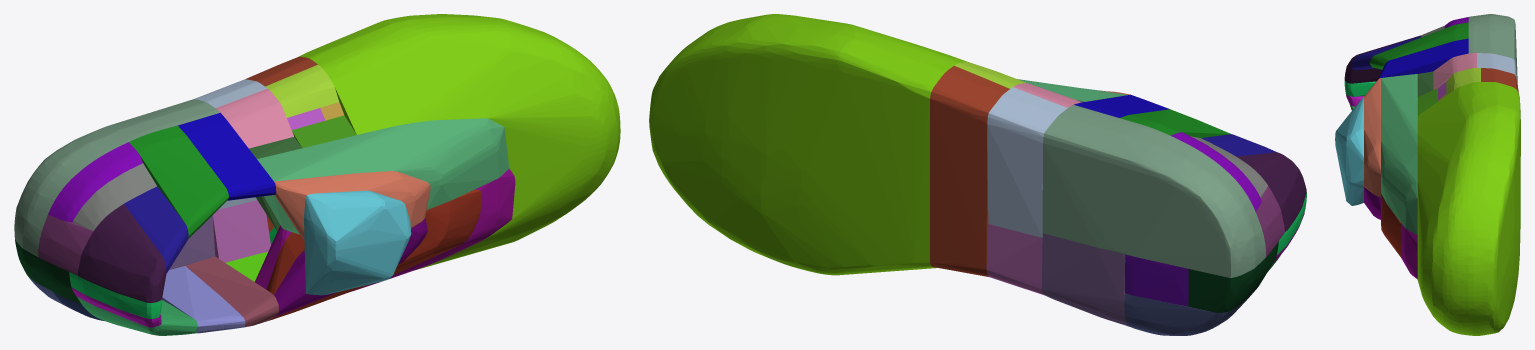
The model's file is coacd_collision.obj.
3 renders of one model, left to right at view 1: azimuth 30°, elevation 25°; view 2: azimuth 150°, elevation 25°; view 3: azimuth 270°, elevation 25°, orthographic. The views are drawn at different scales.
Visible parts, largest first — view 1: geometry_4, geometry_3, geometry_2, geometry_0, geometry_26, geometry_8, geometry_15, geometry_9, geometry_5, geometry_14, geometry_12, geometry_13 (+19 smaller); view 2: geometry_4, geometry_0, geometry_31, geometry_6, geometry_1, geometry_7, geometry_16, geometry_25, geometry_27, geometry_26, geometry_8, geometry_5 (+7 smaller); view 3: geometry_4, geometry_3, geometry_2, geometry_0, geometry_9, geometry_5, geometry_8, geometry_24, geometry_15, geometry_14, geometry_26, geometry_6 (+7 smaller).
Part boxes in pixels (bbox=[...]): geometry_4: bbox=[299, 14, 620, 270]; geometry_3: bbox=[257, 118, 509, 234]; geometry_2: bbox=[304, 190, 411, 295]; geometry_0: bbox=[14, 99, 220, 256]; geometry_26: bbox=[77, 204, 166, 302]; geometry_8: bbox=[129, 125, 228, 238]; geometry_15: bbox=[266, 189, 481, 320]; geometry_9: bbox=[274, 171, 430, 241]; geometry_5: bbox=[178, 113, 276, 200]; geometry_14: bbox=[255, 168, 515, 291]; geometry_12: bbox=[162, 266, 245, 333]; geometry_13: bbox=[185, 256, 278, 327]; geometry_4: bbox=[649, 14, 967, 275]; geometry_0: bbox=[1042, 105, 1265, 277]; geometry_31: bbox=[930, 65, 1009, 276]; geometry_6: bbox=[987, 87, 1067, 237]; geometry_1: bbox=[1042, 233, 1129, 326]; geometry_7: bbox=[986, 224, 1044, 295]; geometry_16: bbox=[1124, 293, 1251, 335]; geometry_25: bbox=[1188, 241, 1278, 312]; geometry_27: bbox=[1125, 254, 1188, 306]; geometry_26: bbox=[1237, 152, 1306, 231]; geometry_8: bbox=[1120, 109, 1230, 137]; geometry_5: bbox=[1074, 94, 1169, 117]; geometry_4: bbox=[1417, 82, 1520, 335]; geometry_3: bbox=[1381, 74, 1417, 235]; geometry_2: bbox=[1335, 97, 1363, 205]; geometry_0: bbox=[1468, 14, 1517, 85]; geometry_9: bbox=[1364, 78, 1380, 197]; geometry_5: bbox=[1378, 38, 1468, 78]; geometry_8: bbox=[1369, 22, 1468, 69]; geometry_24: bbox=[1433, 53, 1476, 89]; geometry_15: bbox=[1381, 193, 1400, 256]; geometry_14: bbox=[1401, 223, 1417, 279]; geometry_26: bbox=[1344, 35, 1421, 83]; geometry_6: bbox=[1477, 53, 1516, 79].
Bounding box in the file's own units: 237 × 89.58 × 80.74.
